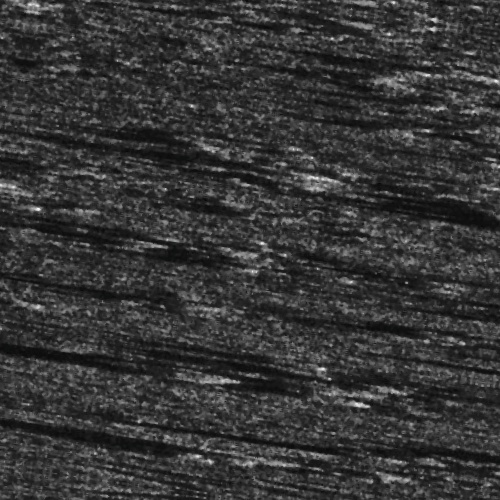object: (414, 300, 497, 313), (0, 329, 68, 338), (391, 39, 464, 46), (251, 162, 324, 169), (158, 146, 211, 155), (196, 306, 249, 313), (256, 451, 319, 456), (120, 252, 173, 257), (201, 376, 254, 381), (451, 126, 492, 129), (266, 175, 297, 178)
shadow: (299, 300, 455, 313), (10, 162, 287, 169), (0, 306, 222, 313), (0, 451, 287, 456), (0, 376, 227, 381), (267, 39, 428, 46), (71, 146, 184, 155), (380, 185, 500, 192), (413, 298, 500, 307), (414, 327, 500, 336), (0, 252, 146, 257), (115, 175, 281, 178), (443, 414, 500, 421), (366, 126, 471, 129), (0, 329, 21, 338)
